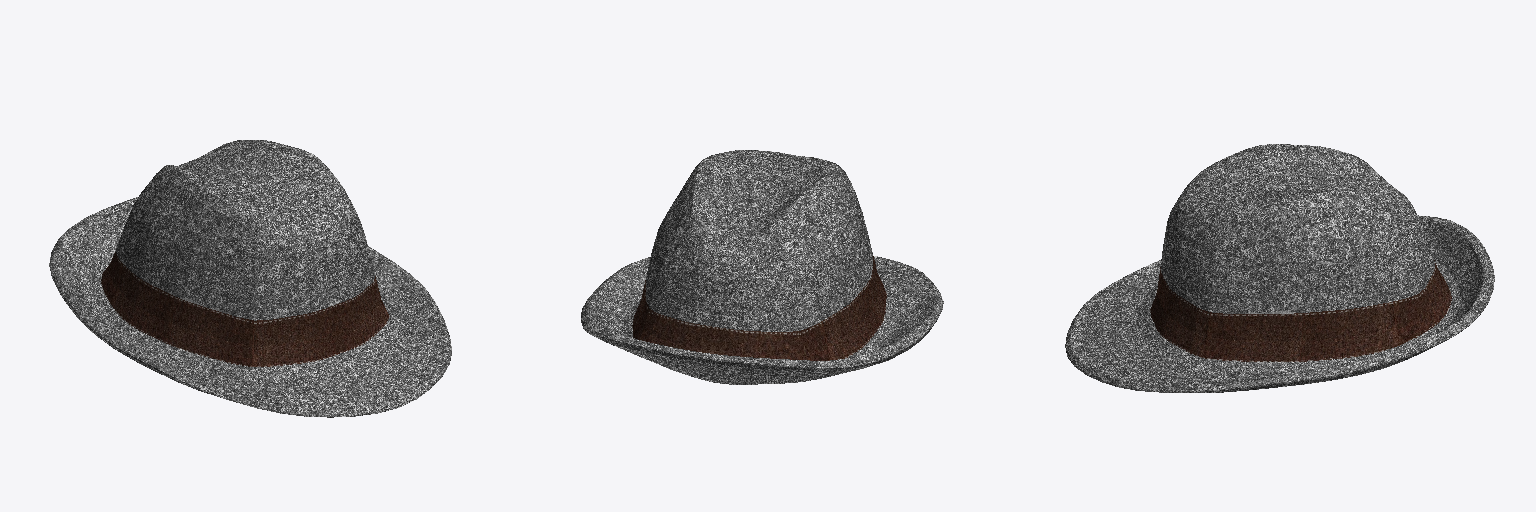
3 views of the same model, side by side, from view 1: azimuth 30°, elevation 25°; view 2: azimuth 150°, elevation 25°; view 3: azimuth 270°, elevation 25° (orthographic).
Visible parts, largest first — view 1: Cube; view 2: Cube; view 3: Cube.
Part boxes in pixels (x1,y1,x2,y2): Cube: (49, 140, 451, 417); Cube: (581, 150, 943, 384); Cube: (1065, 144, 1494, 392).
Bounding box in the file's own units: 4.6 × 2.46 × 5.62.
1 materials, 1 textured.